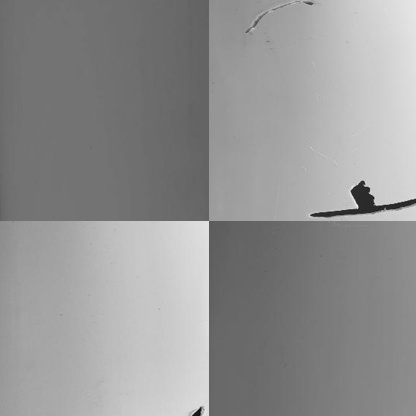fengxi: (243, 2, 328, 33), (306, 204, 413, 217)
kongdong: (346, 179, 372, 201), (186, 405, 203, 416)
